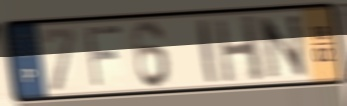6: (130, 18, 172, 91)
7: (41, 25, 80, 94)
F: (83, 23, 125, 91)
H: (212, 13, 266, 85)
I: (194, 16, 219, 86)
N: (256, 12, 310, 81)
